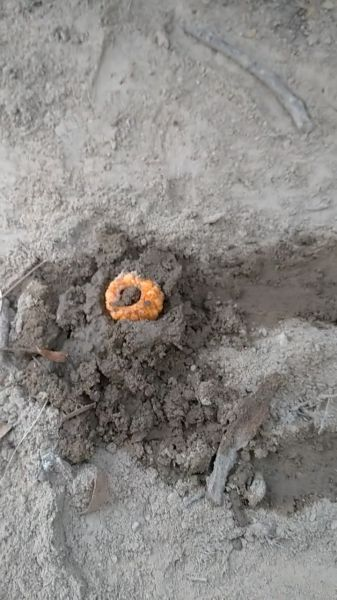eggs: (100, 268, 171, 326)
